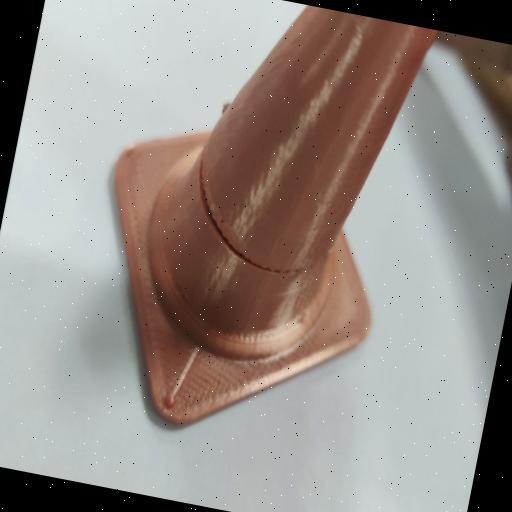cracks: (150, 156, 336, 300)
